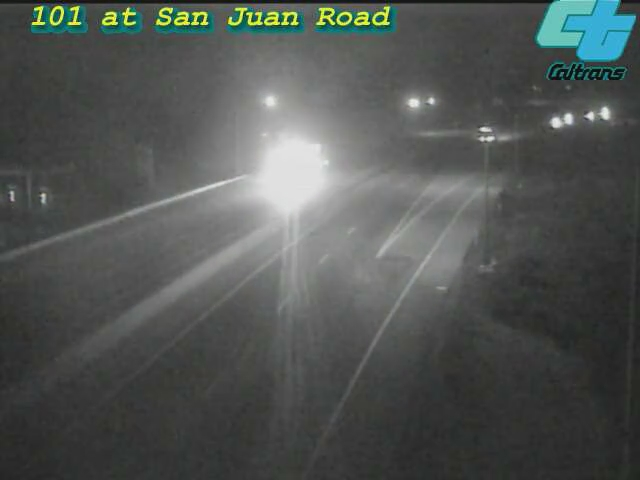vehicle: (245, 133, 325, 213), (529, 99, 579, 149), (461, 108, 511, 158), (543, 93, 593, 143), (580, 87, 630, 137), (564, 91, 614, 141)
